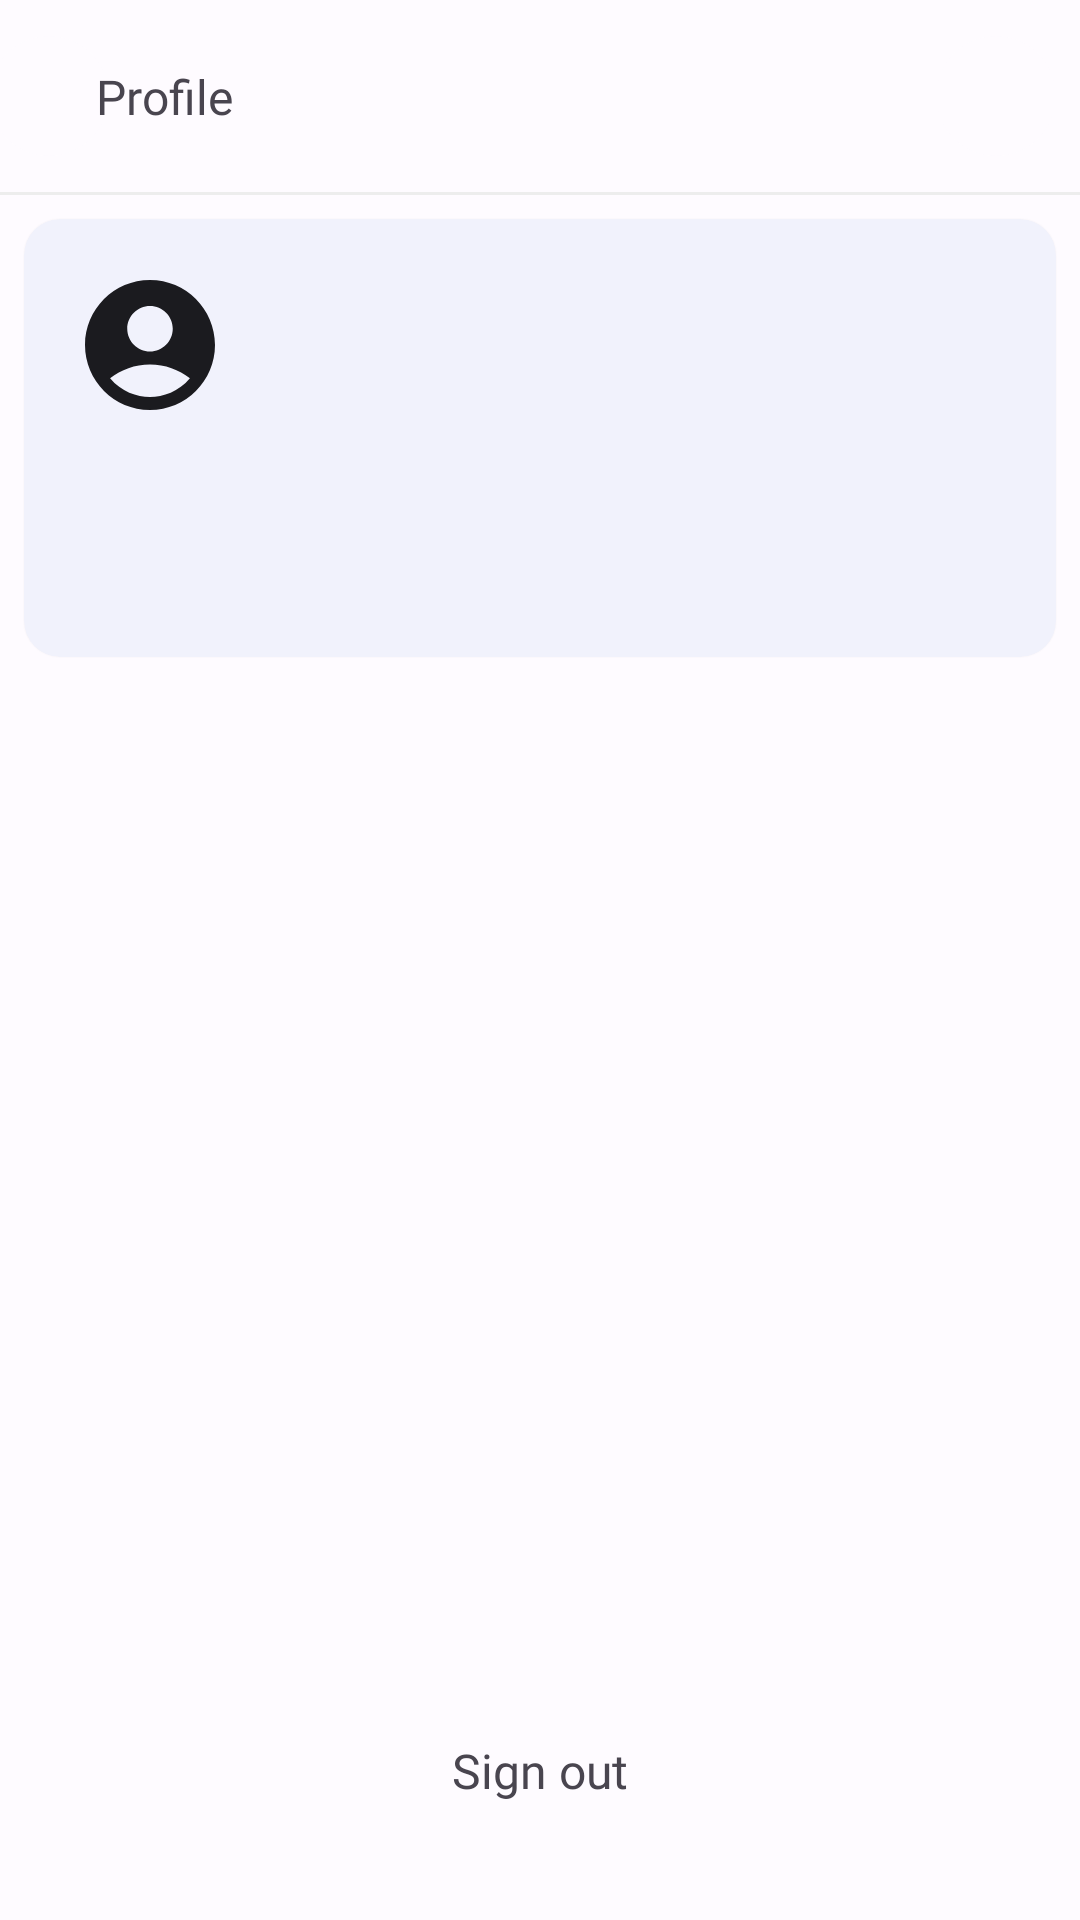

Named icons in this screenshot (1080×1920) and their bounding boxes, [x1=x1, y1=y1, x2=x2, y2=y2]:
account circle: [x1=85, y1=280, x2=215, y2=410]
